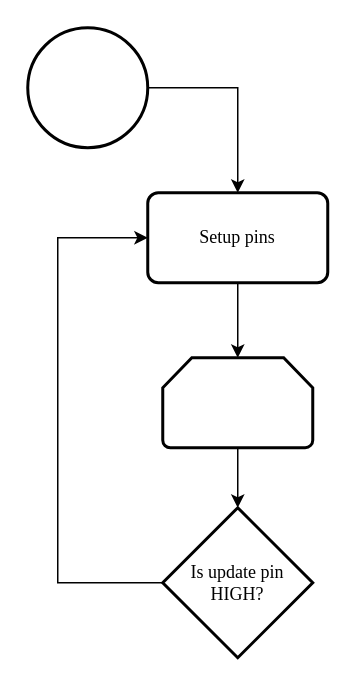
This 354x684 diagram has some shape labels left out. Here are the shapes that lost their labels. From the top down, the centre of each, then its label:
the point at 87,87: Start
the point at 237,402: Loop
